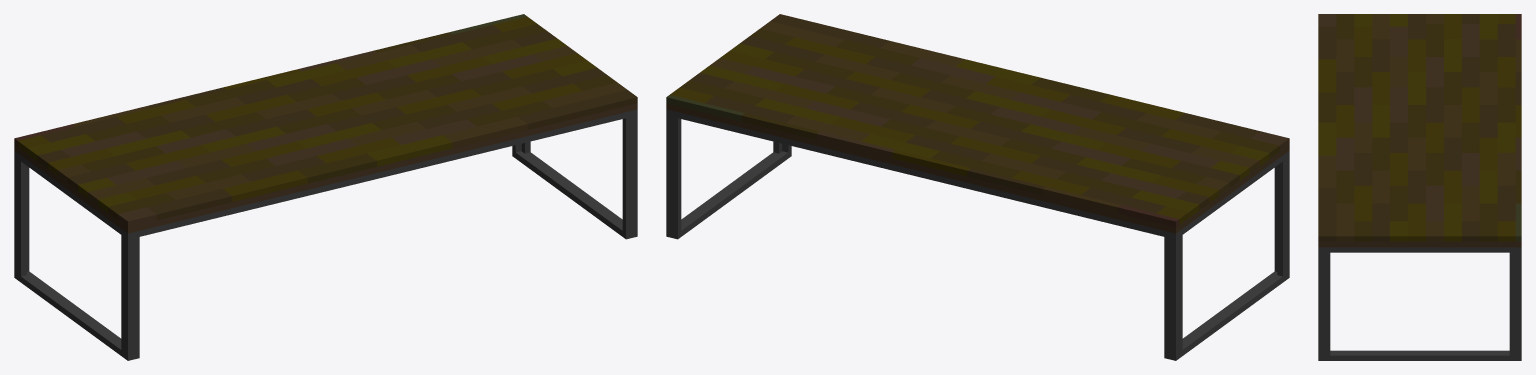
File: Cafe_Desk1-1.fbx
3 views of the same model, side by side, from view 1: azimuth 30°, elevation 25°; view 2: azimuth 150°, elevation 25°; view 3: azimuth 270°, elevation 25° (orthographic). The views are drawn at different scales.
Visible parts, largest first — view 1: Cafe Desk1-1; view 2: Cafe Desk1-1; view 3: Cafe Desk1-1.
Part boxes in pixels (x1,y1,x2,y2): Cafe Desk1-1: [14, 14, 637, 360]; Cafe Desk1-1: [666, 14, 1289, 360]; Cafe Desk1-1: [1318, 14, 1521, 360].
Bounding box in the file's own units: 8.8 × 2.3 × 3.4.
